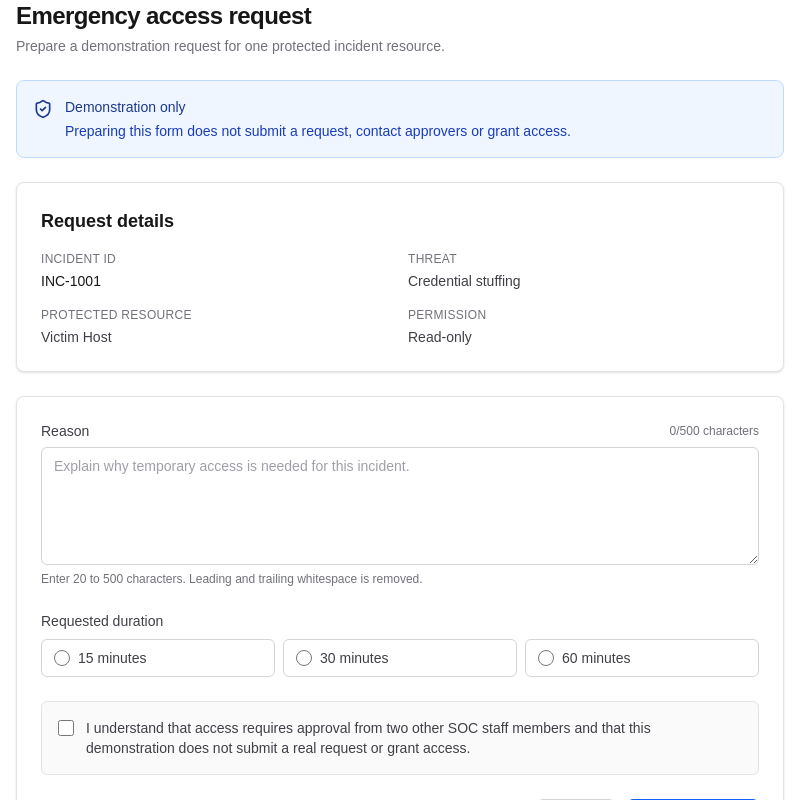
Scenario: AccessRequestView › accepts exactly 20 trimmed characters and removes surrounding whitespace
Check: the heading "Emergency access request" is shown, box [16,2,311,29]
Step 1. Type "   12345678901234567890   " into the text box labelled "Reason" → {"x": 400, "y": 506}, box [41,447,759,565]
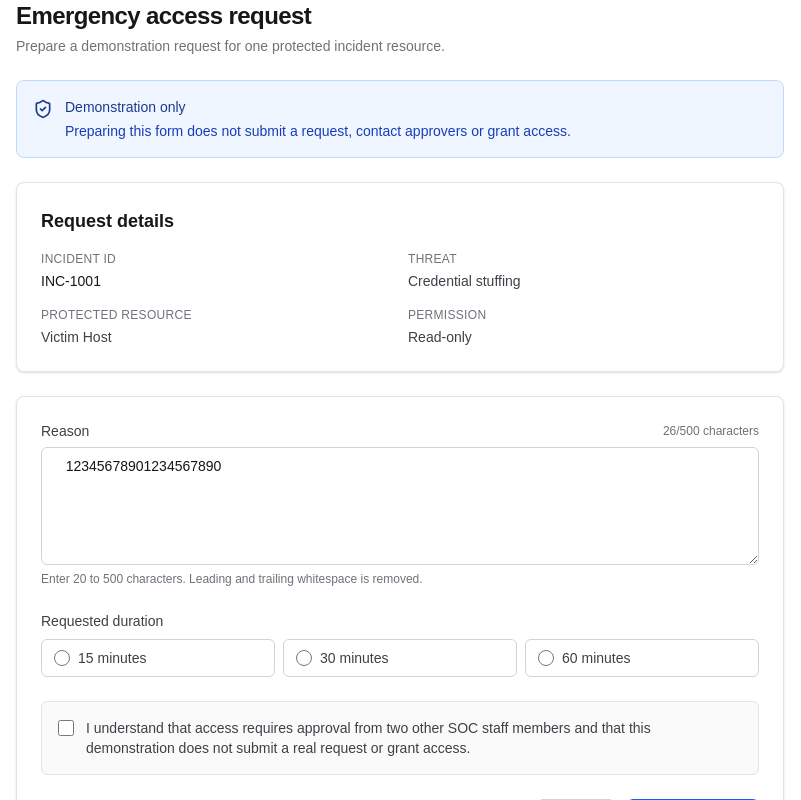
Step 2. Click the radio button labelled "30 minutes" → {"x": 304, "y": 658}, box [296,650,312,666]
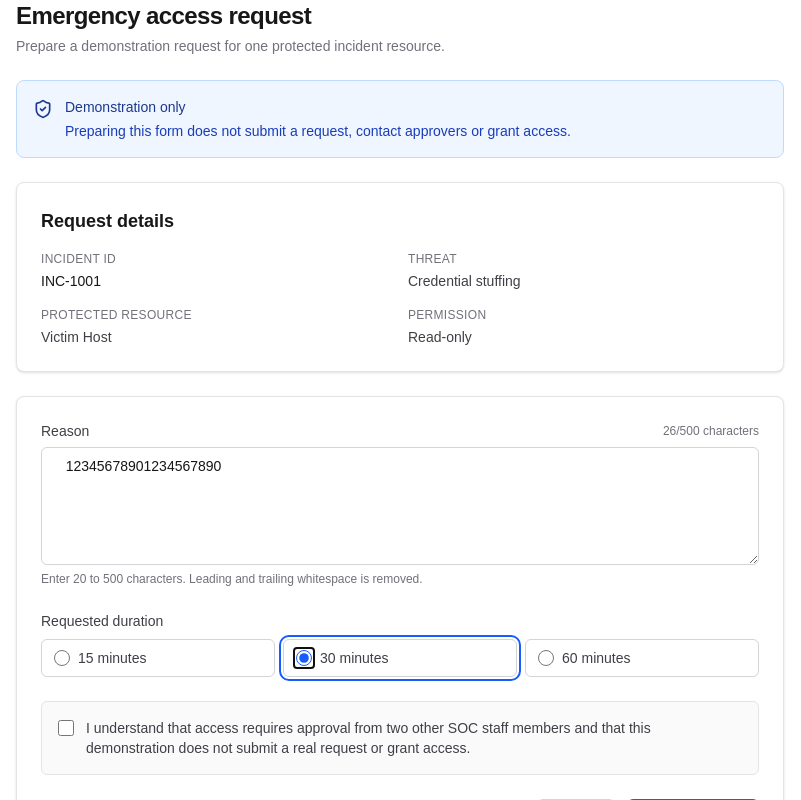
Step 3. Click the checkbox labelled "I understand that access requires approval" → {"x": 66, "y": 728}, box [58,720,74,736]
(page scrolled)
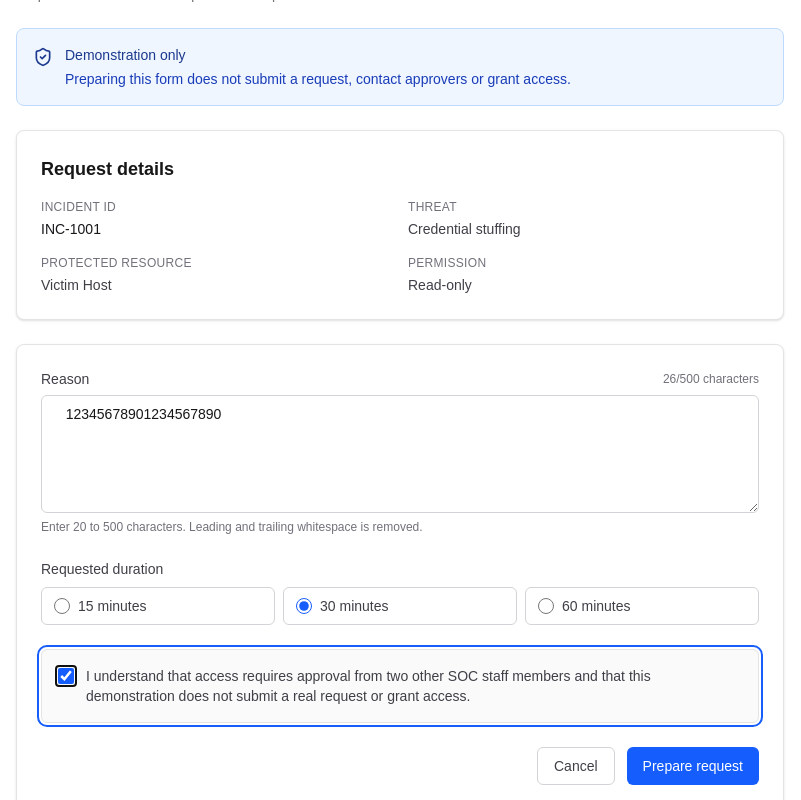
Step 4. Click the button "Prepare request" → {"x": 693, "y": 766}, box [627,747,759,785]
(page scrolled)
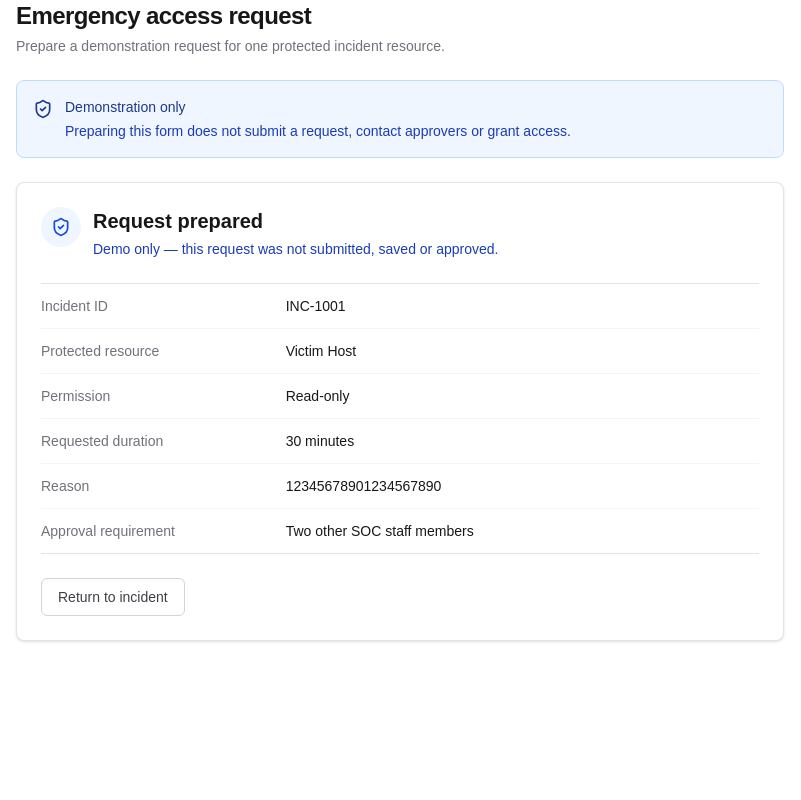
Check: the heading "Request prepared" is shown, box [93,210,263,232]
Check: the text "12345678901234567890" is shown, box [286,478,441,494]
